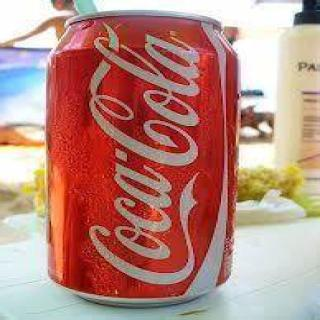Anorganik: (45, 8, 246, 314)
